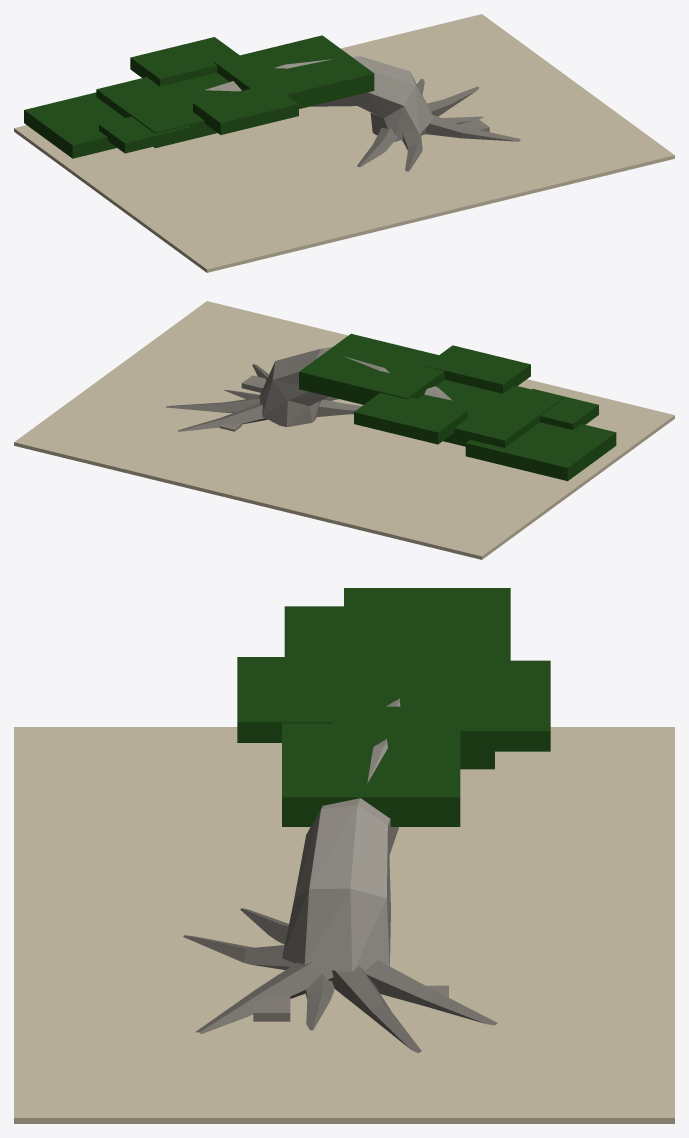
File: eb_fofoti_13.glb
3 views of the same model, one above another, from view 1: azimuth 30°, elevation 25°; view 2: azimuth 150°, elevation 25°; view 3: azimuth 270°, elevation 25° (orthographic). The views are drawn at different scales.
Parts seen in each view (by area): view 1: eb_fofoti_13_lod0; view 2: eb_fofoti_13_lod0; view 3: eb_fofoti_13_lod0.
Part boxes in pixels (left/top/right/bottom): eb_fofoti_13_lod0: left=14, top=14, right=674, bottom=272; eb_fofoti_13_lod0: left=14, top=301, right=674, bottom=559; eb_fofoti_13_lod0: left=14, top=588, right=674, bottom=1123.
Size of what is drawn, in the model's own units: 15.13 by 2.53 by 10.
